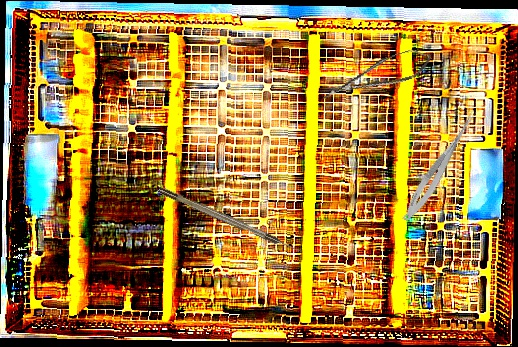Hook Surgical: (157, 185, 303, 256)
Micro Scissor: (398, 105, 481, 226), (316, 44, 436, 106)
